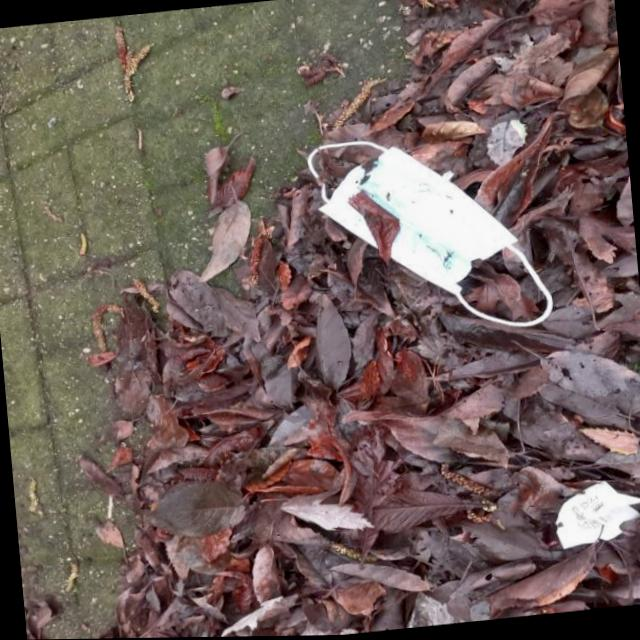Mask: (298, 119, 560, 354)
Paper: (549, 476, 640, 551)
